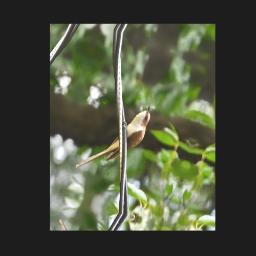Cuckoo: (73, 86, 154, 190)
